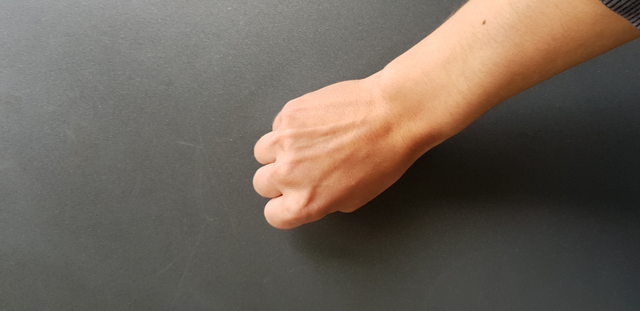Rock: (214, 74, 446, 245)
